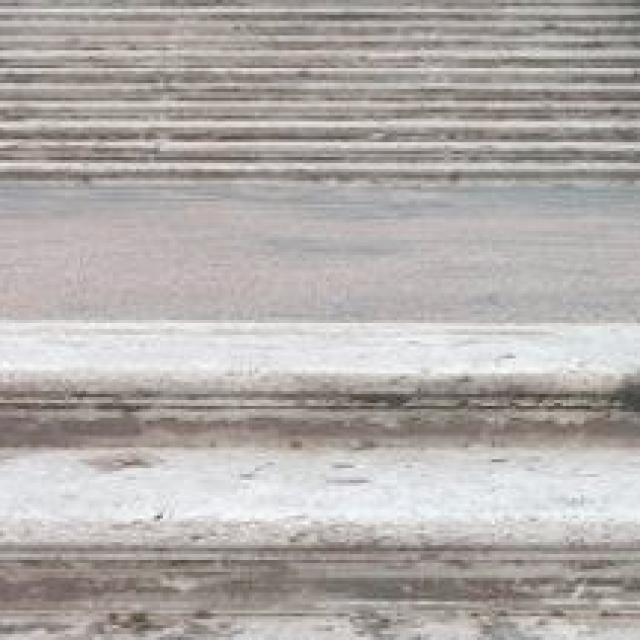upstair: (45, 336, 567, 596)
